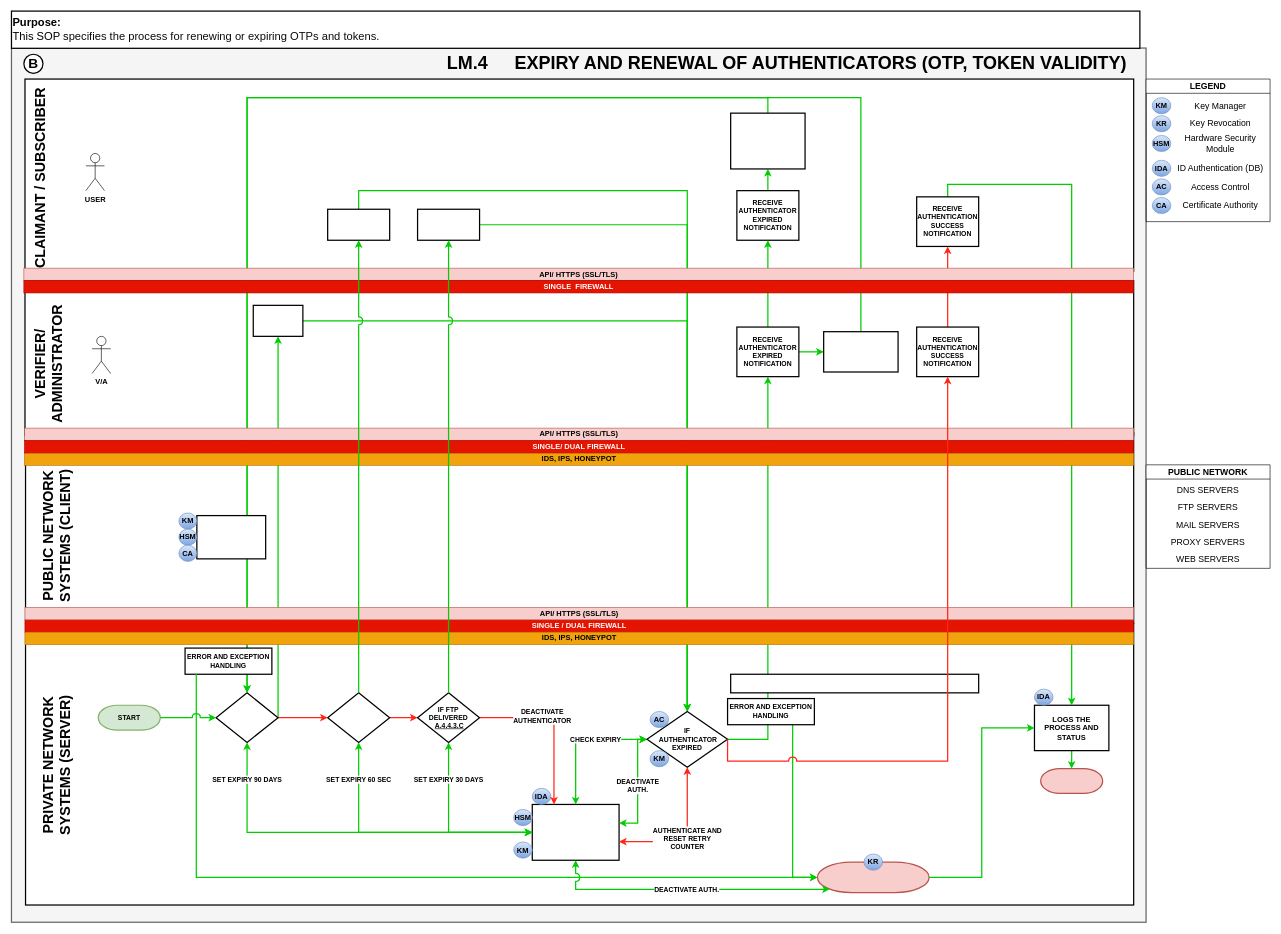
The diagram is 1281 pixels wide and 934 high, and some of its shapes have lost their labels. The shapes that lost their labels are listed below. From the top down, each one's centre as x and y in pixels, then its label:
At (x=767, y=140): "GENERATE NEW AUTHENTICATOR: TOKEN: AU.2.D OTP: AU.2.A".
At (x=358, y=224): "OTP AUTH. AU.2.C".
At (x=448, y=224): "FTP AUTH. AU.1.B".
At (x=277, y=320): "TOKEN AUTH. AU.2.E".
At (x=860, y=351): "GENERATE NEW AUTHENTICATOR AND DELIVER: FTP: OB.4.C".
At (x=231, y=537): "MASK & ENCRYPT AUTHENTICATOR DETAILS".
At (x=854, y=683): "NOTIFICATION GENERATOR".
At (x=246, y=717): "IF TOKEN GENERATED B.2.4.3.D".
At (x=358, y=717): "IF OTP GENERATED B.2.4.1.A".
At (x=1071, y=781): "END".
At (x=575, y=832): "STORE AUTHENTICATOR EXPIRY DATE, TIME AND RETRY COUNTER".
At (x=873, y=877): "TERMINATE PROCESS: WHEN 3 RETRY EXCEEDED".
